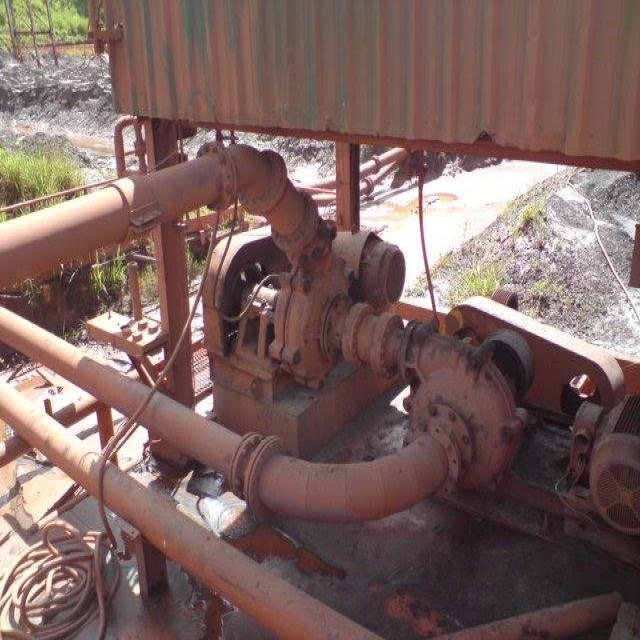gas: (0, 377, 382, 640), (0, 308, 469, 514), (3, 148, 332, 277)
